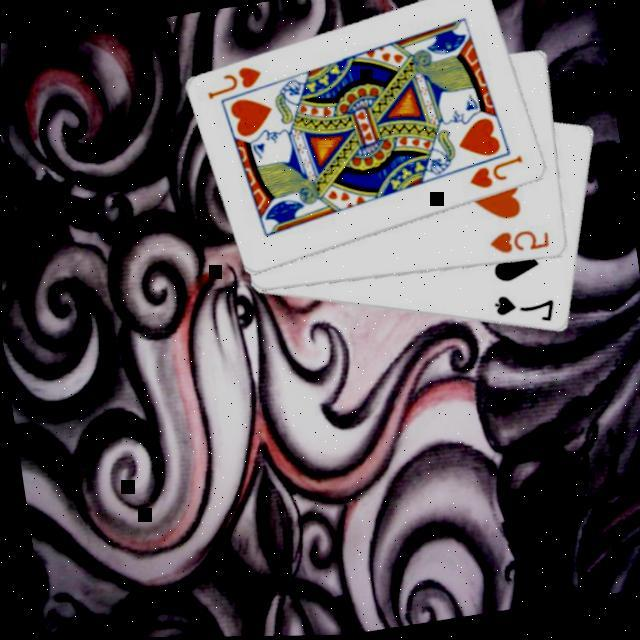5H: (484, 222, 552, 260)
7S: (488, 285, 558, 333)
JH: (462, 152, 528, 195), (200, 60, 266, 102)
